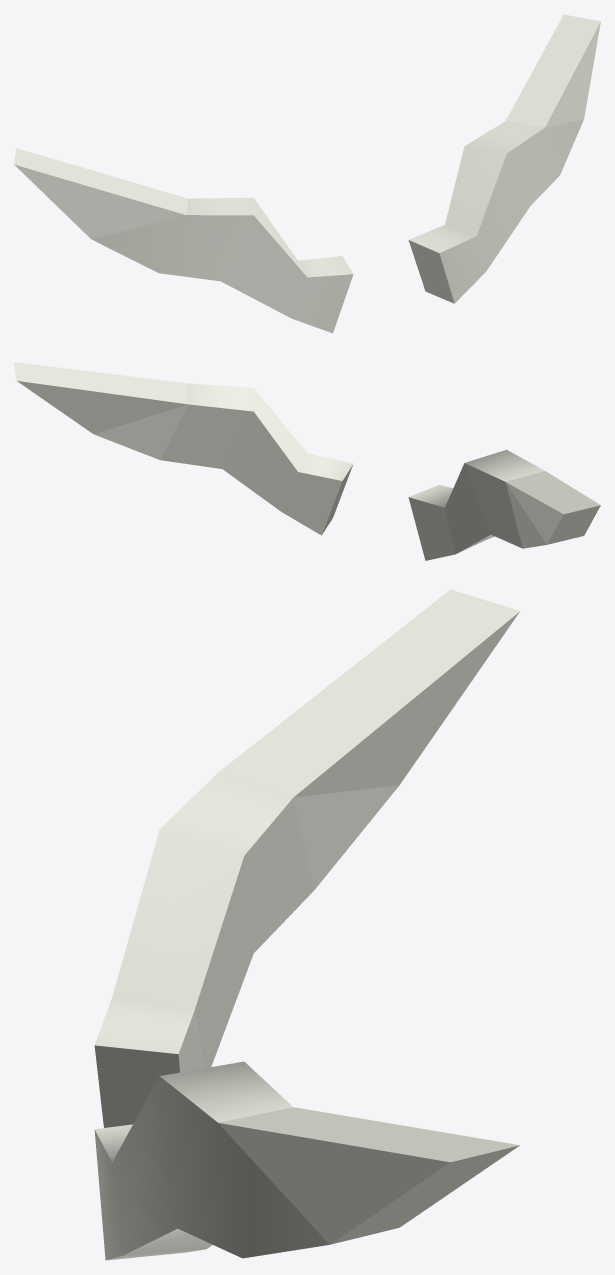
File: Brow_White_11.fbx
The picture shows the model from 3 angles, top to bottom: view 1: azimuth 30°, elevation 25°; view 2: azimuth 150°, elevation 25°; view 3: azimuth 270°, elevation 25°; orthographic projection. The views are drawn at different scales.
Visible parts, largest first — view 1: Brow_White_11; view 2: Brow_White_11; view 3: Brow_White_11.
Part boxes in pixels (x1,y1,x2,y2): Brow_White_11: (14,14,600,333); Brow_White_11: (14,362,600,560); Brow_White_11: (94,589,519,1260).
Size of the model in its own units: 51.57 by 13.68 by 16.2.
